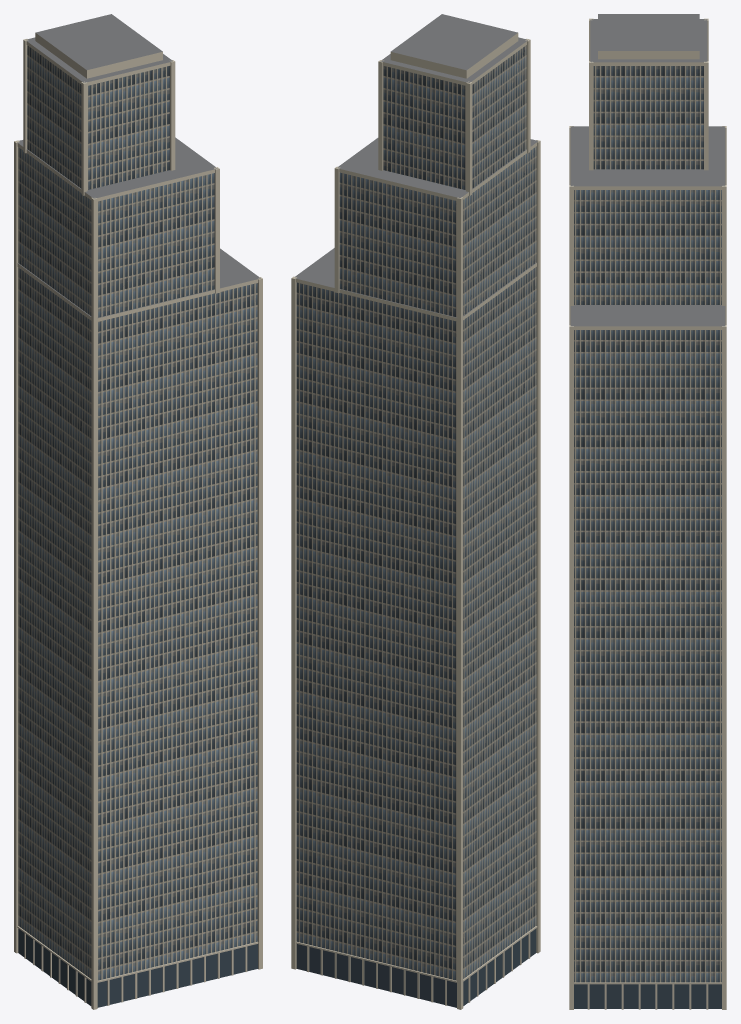
File: hudson_yards_35.glb
3 renders of one model, left to right at view 1: azimuth 30°, elevation 25°; view 2: azimuth 150°, elevation 25°; view 3: azimuth 270°, elevation 25°, orthographic.
Visible parts, largest first — view 1: hudson_yards_35; view 2: hudson_yards_35; view 3: hudson_yards_35.
Part boxes in pixels (x1=…): hudson_yards_35: x1=14, y1=14, x2=262, y2=1009; hudson_yards_35: x1=291, y1=14, x2=540, y2=1009; hudson_yards_35: x1=569, y1=14, x2=726, y2=1009.
Size of the model in its own units: 58.88 by 308 by 47.9.
Materials: 2 (2 with a texture image).
